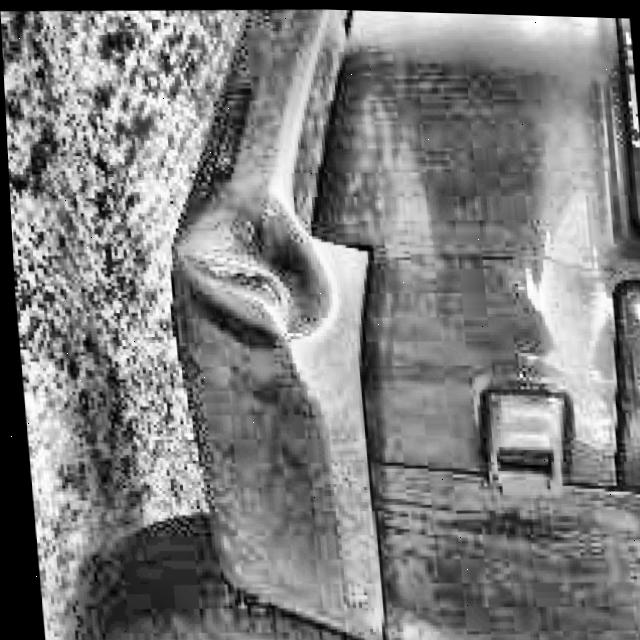bumper_dent: (168, 182, 336, 345)
